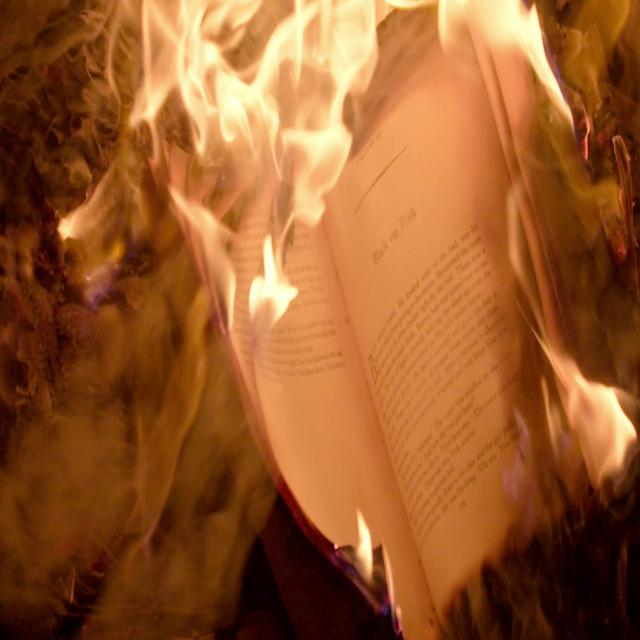Fire: (506, 181, 636, 535), (193, 0, 380, 223), (153, 95, 265, 439), (450, 0, 563, 104), (108, 0, 182, 123), (250, 236, 300, 334), (176, 0, 213, 106), (54, 191, 93, 262), (350, 502, 378, 600)
Smoke: (0, 341, 275, 640)
